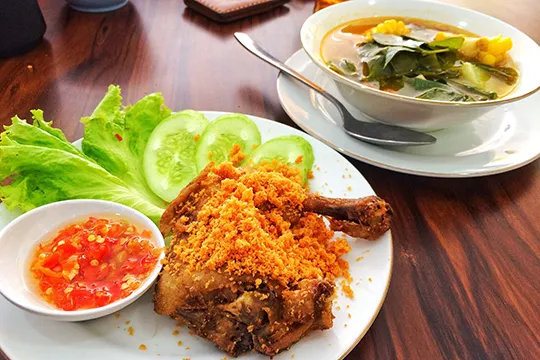buah_sayur_lainnya: (19, 123, 138, 191), (359, 18, 473, 82), (165, 115, 224, 171)
buah_sayur_vitA: (45, 226, 132, 291)
daging: (190, 189, 305, 331)
